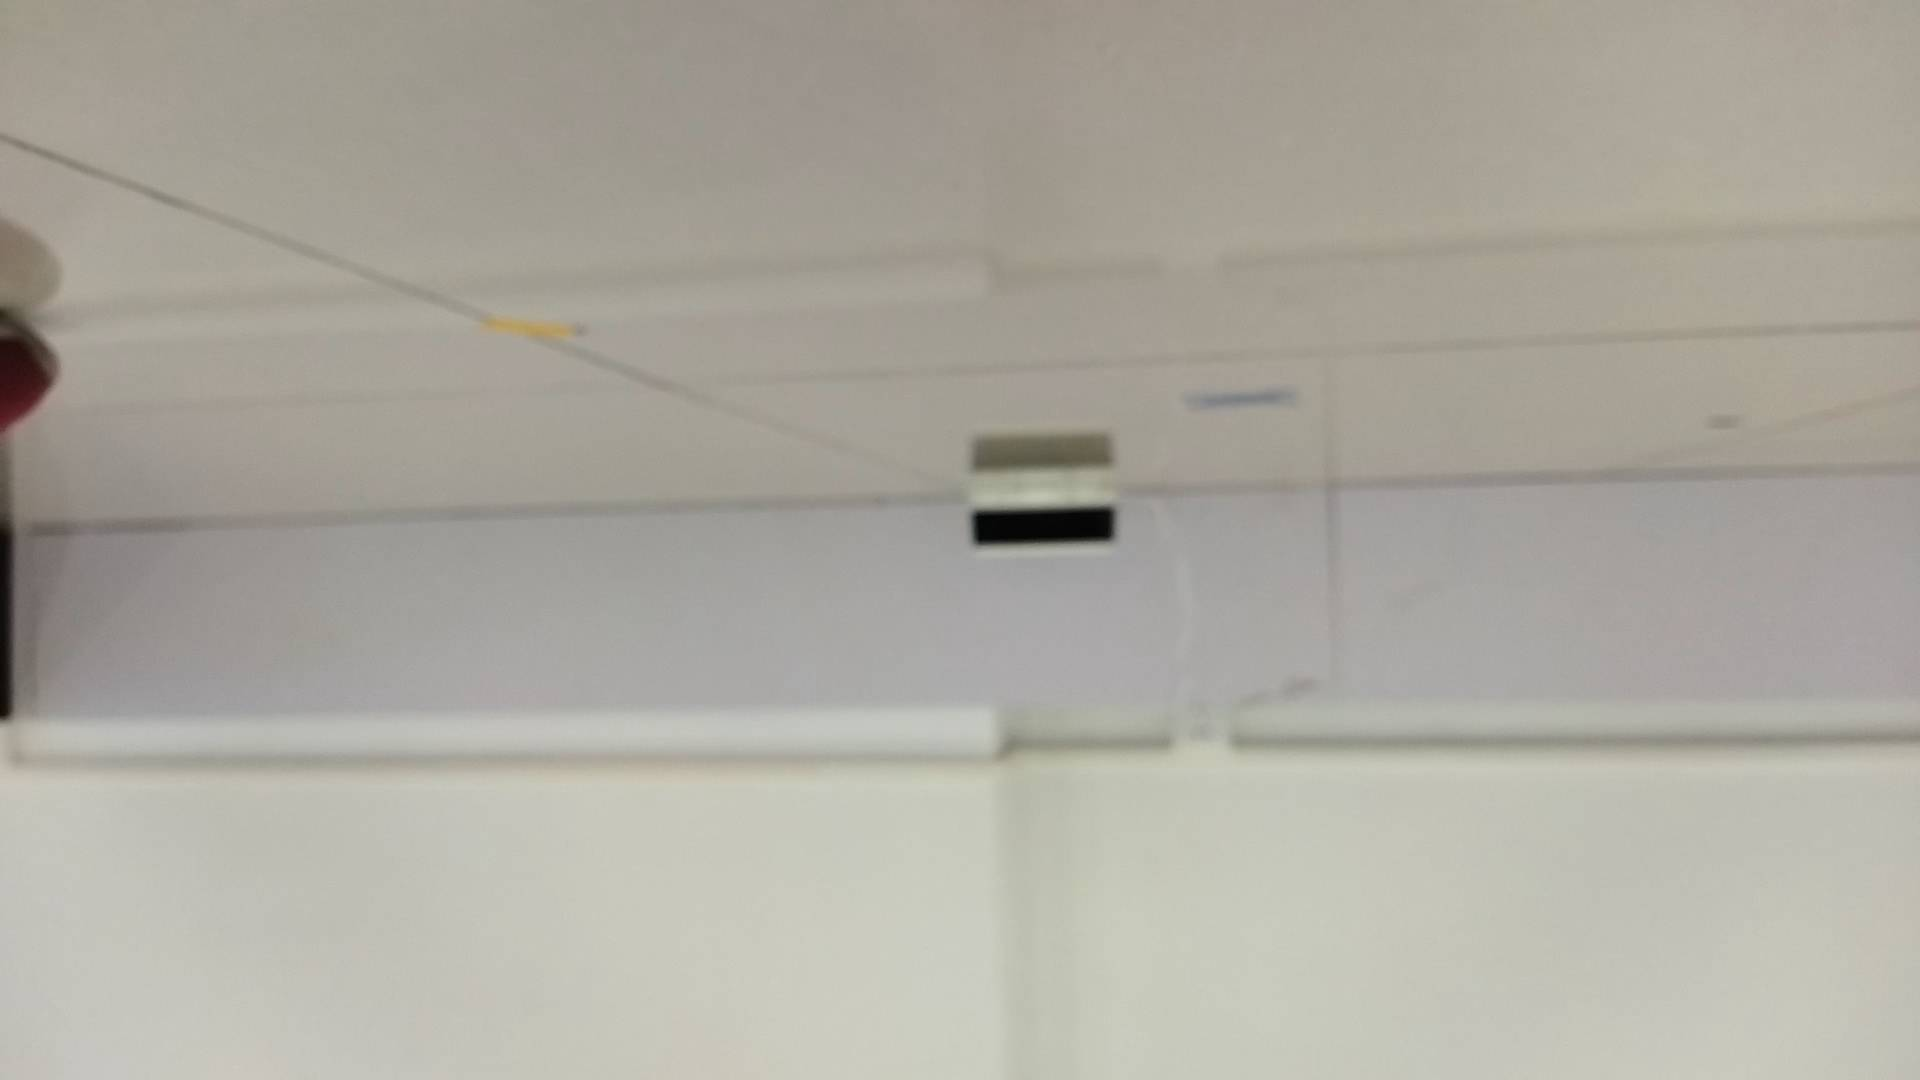recharge seat: (963, 460, 1129, 562)
